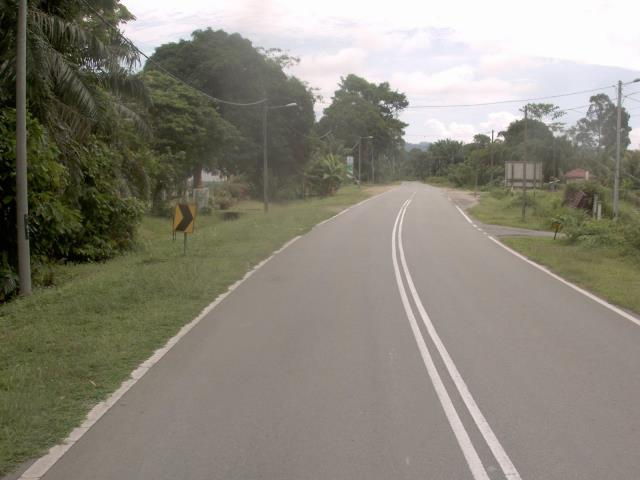traffic_sign: (164, 191, 201, 241)
